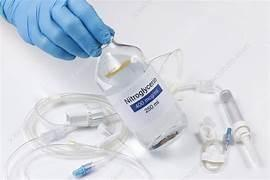Glove: (0, 0, 113, 59)
Iv_Bottle: (96, 41, 186, 149)
